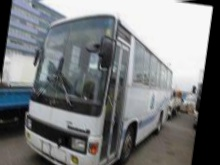bus: (17, 0, 182, 165)
